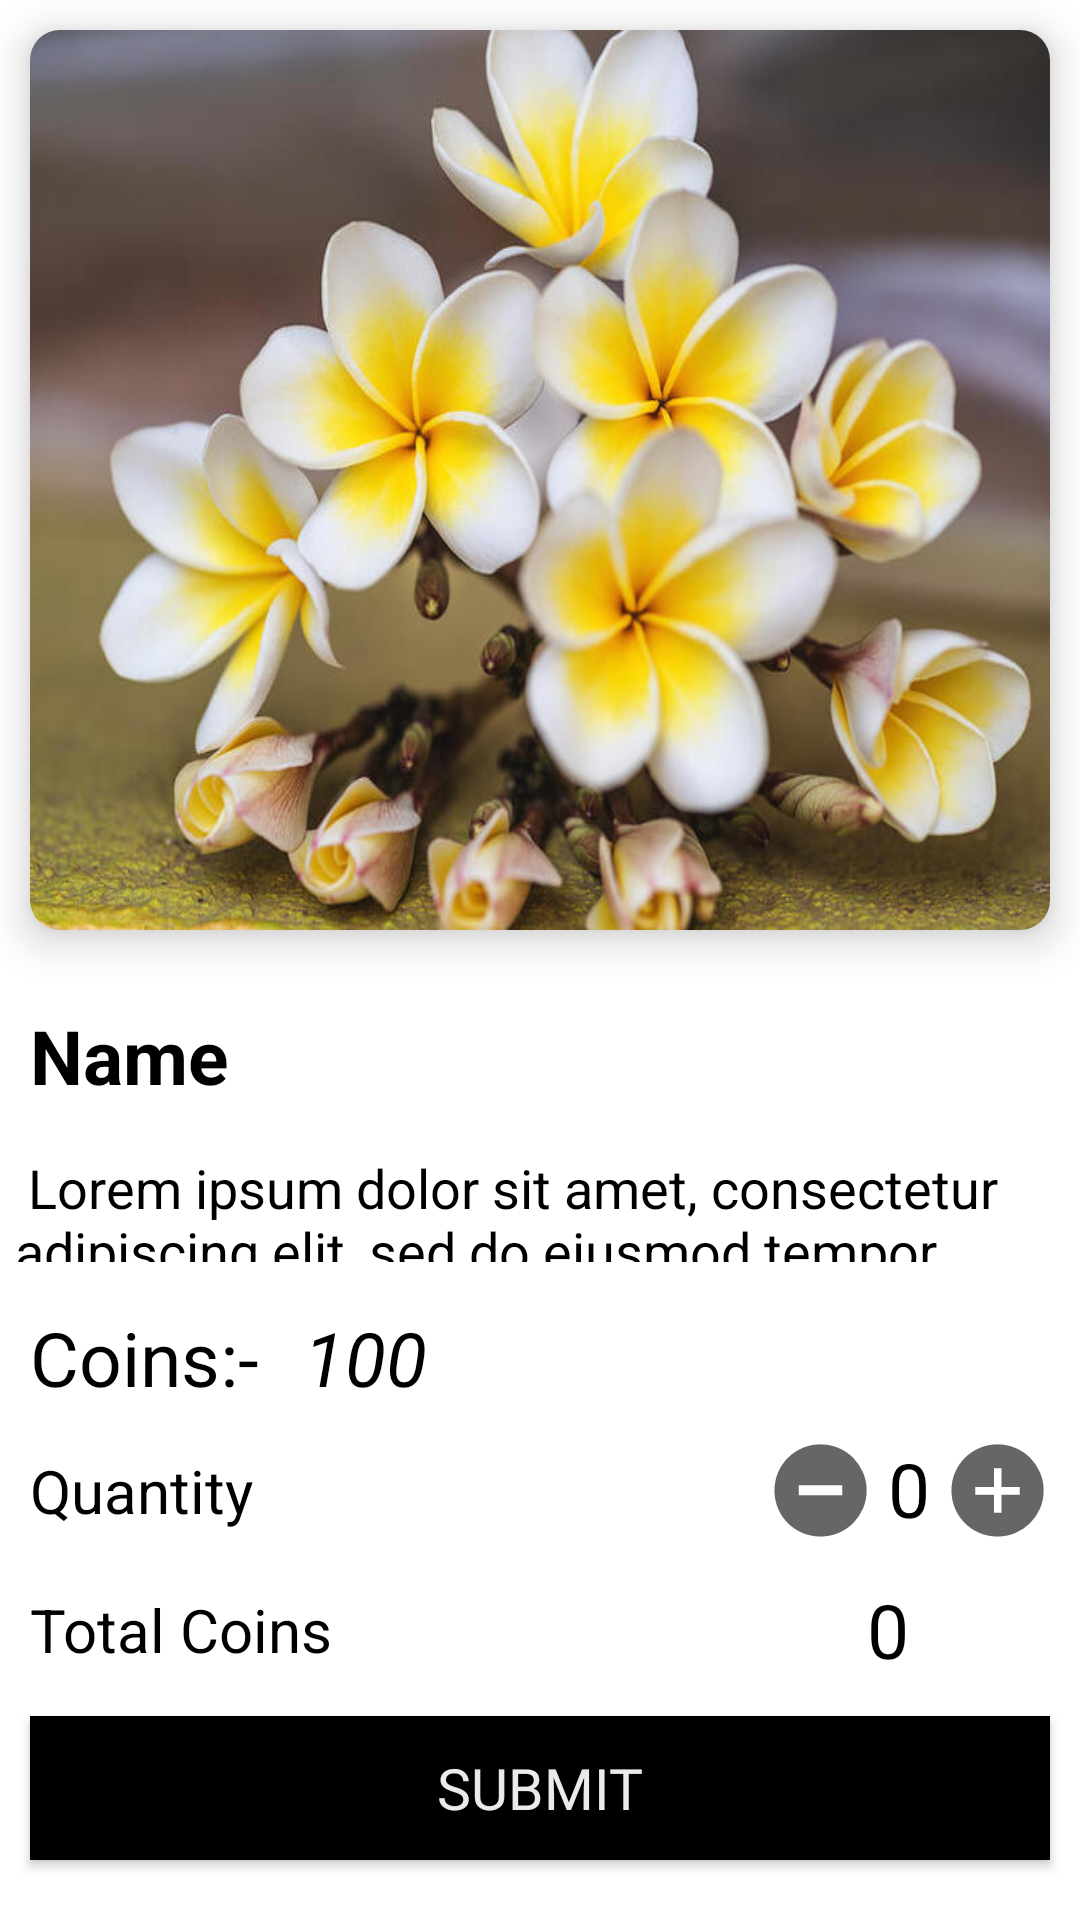

Screen size 1080x1920. Icon name, then its box in pixels as (x1, y1, x2, y2):
add: (951, 1444, 1044, 1537)
minus: (774, 1444, 867, 1537)
